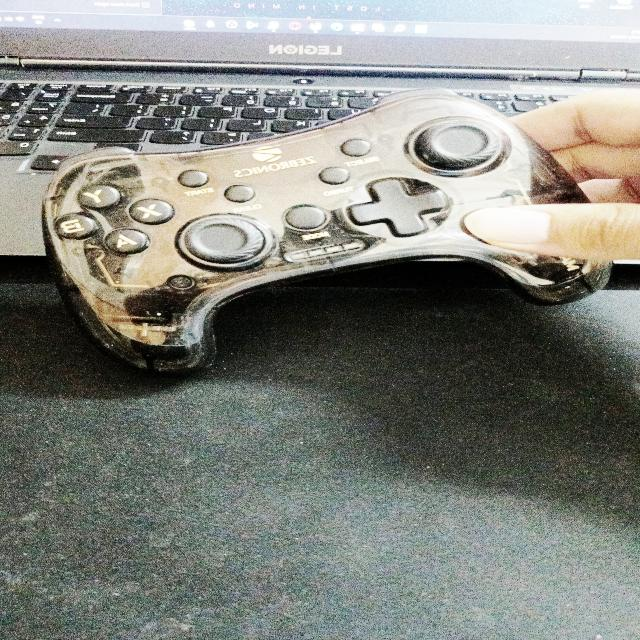gamepad: (40, 88, 615, 376)
